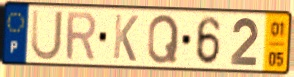2: (229, 16, 262, 69)
6: (194, 14, 224, 67)
K: (111, 12, 140, 64)
Q: (145, 13, 181, 66)
R: (64, 10, 98, 63)
U: (30, 7, 65, 62)
